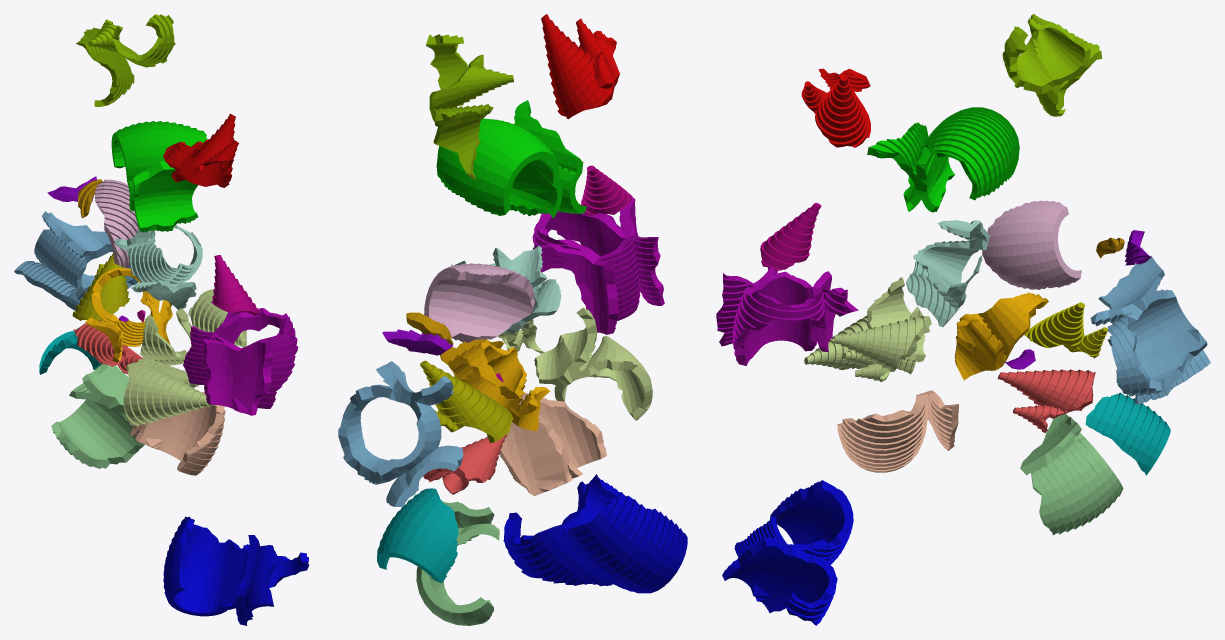
The model's file is fractured_66_20pcs_transformed.glb.
3 views of the same model, side by side, from view 1: azimuth 30°, elevation 25°; view 2: azimuth 150°, elevation 25°; view 3: azimuth 270°, elevation 25° (orthographic). The views are drawn at different scales.
Visible parts, largest first — view 1: piece_10.obj, piece_12.obj, piece_8.obj, piece_5.obj, piece_3.obj, piece_2.obj, piece_7.obj, piece_15.obj, piece_4.obj, piece_9.obj, piece_0.obj, piece_6.obj (+6 smaller); view 2: piece_10.obj, piece_8.obj, piece_12.obj, piece_2.obj, piece_6.obj, piece_5.obj, piece_7.obj, piece_15.obj, piece_9.obj, piece_14.obj, piece_0.obj, piece_3.obj (+6 smaller); view 3: piece_10.obj, piece_2.obj, piece_8.obj, piece_12.obj, piece_3.obj, piece_5.obj, piece_6.obj, piece_7.obj, piece_15.obj, piece_4.obj, piece_0.obj, piece_14.obj (+4 smaller).
Boxes of the visible parts, bbox=[...] form: piece_10.obj: bbox=[163, 516, 309, 625]; piece_12.obj: bbox=[183, 308, 298, 415]; piece_8.obj: bbox=[111, 121, 207, 231]; piece_5.obj: bbox=[123, 289, 246, 425]; piece_3.obj: bbox=[51, 363, 144, 468]; piece_2.obj: bbox=[14, 211, 137, 310]; piece_7.obj: bbox=[129, 392, 225, 475]; piece_15.obj: bbox=[76, 14, 175, 106]; piece_4.obj: bbox=[115, 225, 202, 309]; piece_9.obj: bbox=[163, 114, 238, 187]; piece_0.obj: bbox=[85, 267, 172, 362]; piece_6.obj: bbox=[94, 179, 138, 268]; piece_10.obj: bbox=[503, 474, 687, 593]; piece_8.obj: bbox=[436, 100, 586, 218]; piece_12.obj: bbox=[532, 197, 664, 334]; piece_2.obj: bbox=[338, 361, 463, 506]; piece_6.obj: bbox=[424, 263, 535, 342]; piece_5.obj: bbox=[498, 307, 652, 420]; piece_7.obj: bbox=[499, 392, 606, 496]; piece_15.obj: bbox=[426, 34, 513, 179]; piece_9.obj: bbox=[541, 14, 619, 119]; piece_14.obj: bbox=[377, 488, 458, 583]; piece_0.obj: bbox=[440, 339, 550, 430]; piece_3.obj: bbox=[416, 501, 499, 625]; piece_10.obj: bbox=[722, 480, 853, 625]; piece_2.obj: bbox=[1090, 256, 1210, 404]; piece_8.obj: bbox=[867, 107, 1019, 212]; piece_12.obj: bbox=[716, 267, 858, 365]; piece_3.obj: bbox=[1020, 414, 1123, 535]; piece_5.obj: bbox=[804, 277, 931, 381]; piece_6.obj: bbox=[982, 200, 1081, 289]; piece_7.obj: bbox=[837, 390, 958, 472]; piece_15.obj: bbox=[1002, 14, 1102, 116]; piece_4.obj: bbox=[906, 220, 989, 326]; piece_0.obj: bbox=[954, 292, 1048, 380]; piece_14.obj: bbox=[1085, 392, 1170, 475].
Bounding box in the file's own units: 0.7171 × 2.39 × 1.8.
